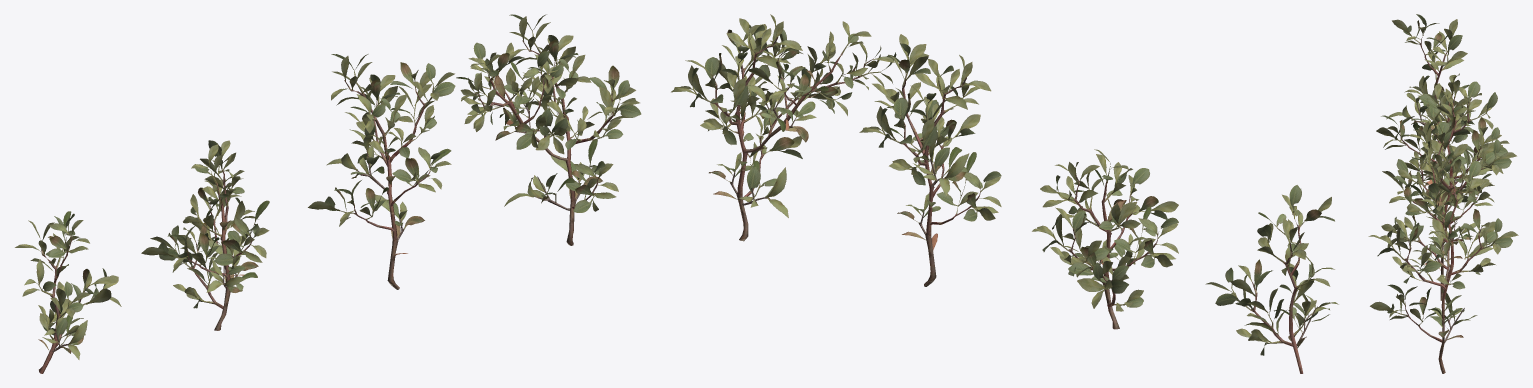
File: shrub_04.glb
3 views of the same model, side by side, from view 1: azimuth 30°, elevation 25°; view 2: azimuth 150°, elevation 25°; view 3: azimuth 270°, elevation 25° (orthographic). The views are drawn at different scales.
Parts seen in each view (by area): view 1: shrub_04; view 2: shrub_04; view 3: shrub_04.
Part boxes in pixels (<box>): shrub_04: <box>15,14,641,373</box>; shrub_04: <box>671,14,1338,373</box>; shrub_04: <box>1368,14,1518,373</box>.
Size of the model in its own units: 0.5837 by 0.2192 by 0.1461.
Materials: 1 (1 with a texture image).
